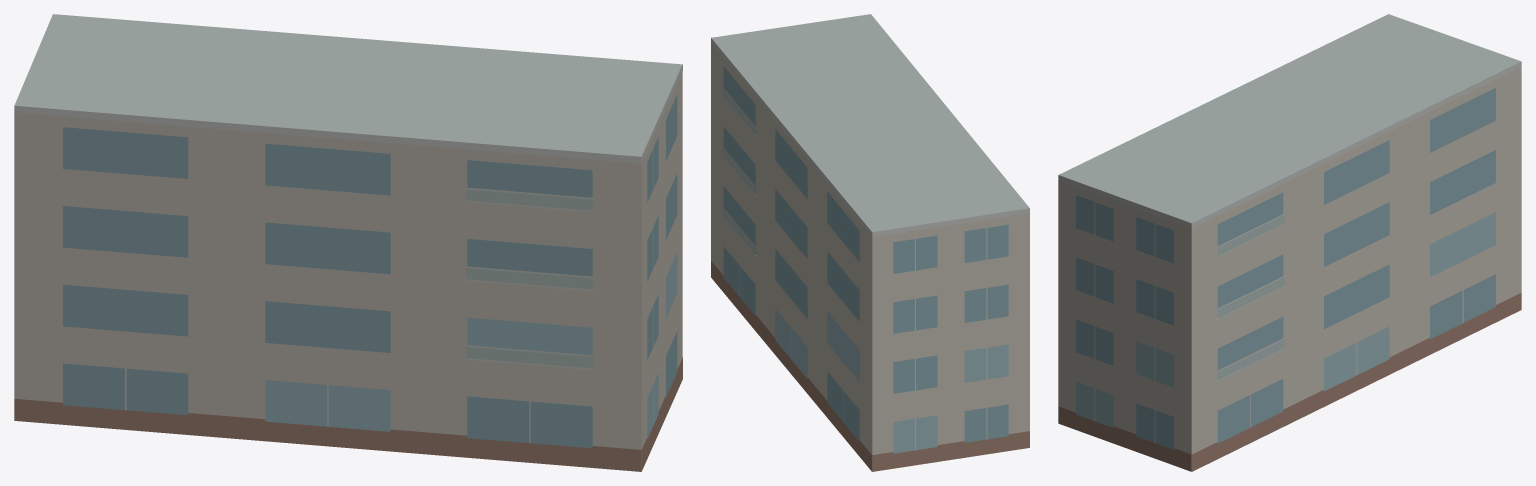
The model's file is survey-upis-32763564.glb.
The picture shows the model from 3 angles, left to right: view 1: azimuth 30°, elevation 25°; view 2: azimuth 150°, elevation 25°; view 3: azimuth 270°, elevation 25°; orthographic projection. The views are drawn at different scales.
Parts seen in each view (by area): view 1: survey-upis-32763564.tmp; view 2: survey-upis-32763564.tmp; view 3: survey-upis-32763564.tmp.
Boxes of the visible parts, left/top/right/bottom form: survey-upis-32763564.tmp: left=14, top=14, right=682, bottom=471; survey-upis-32763564.tmp: left=711, top=14, right=1029, bottom=471; survey-upis-32763564.tmp: left=1058, top=14, right=1521, bottom=471.
Bounding box in the file's own units: 20.69 × 11.45 × 19.34.
